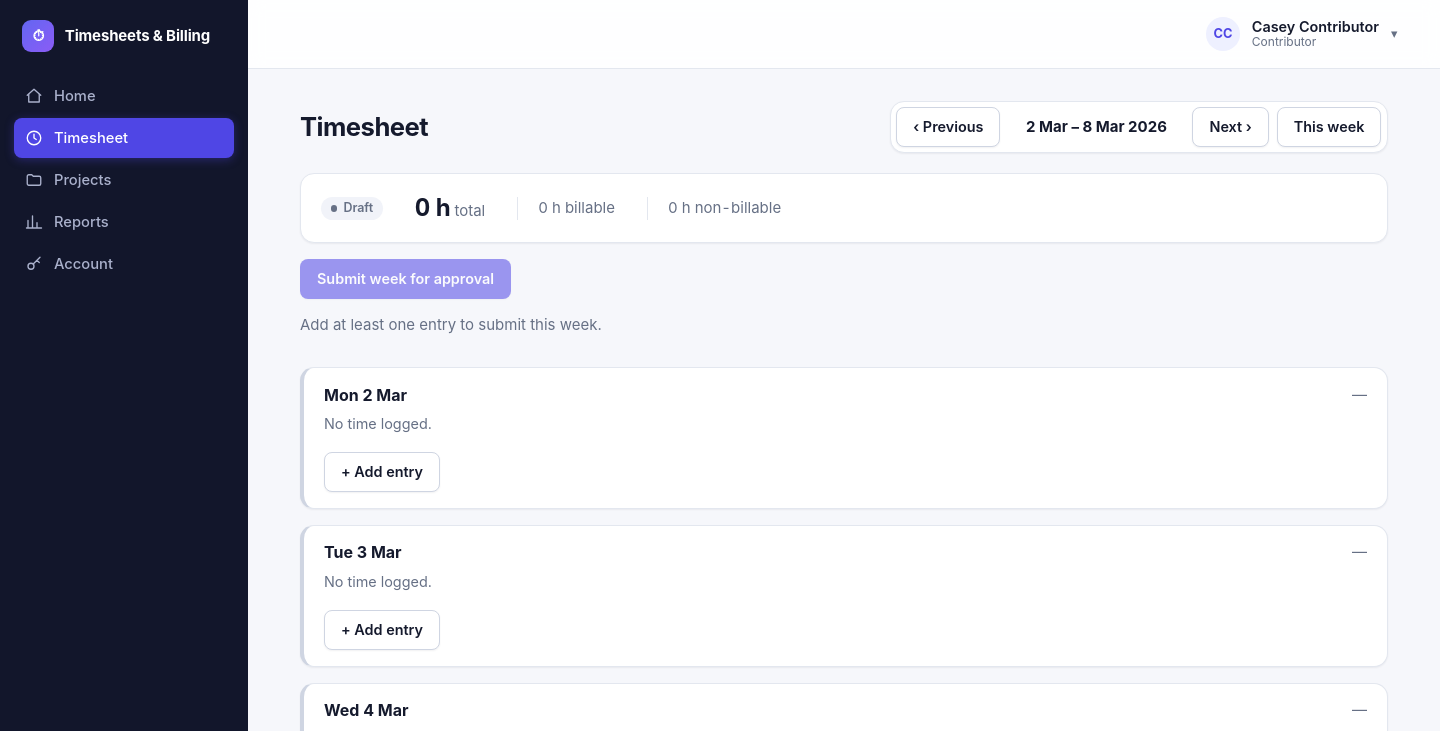
Test case: timesheet: adding entries › explains a project’s date window up front and refuses an earlier date on the client
Expected: the heading "Timesheet" is shown, [300,108,428,146]
Expected: the text "total" is shown, [450,201,485,220]
Click the button with aria-label "Add entry on Mon 2 Mar": (382,472) [324,452,440,492]
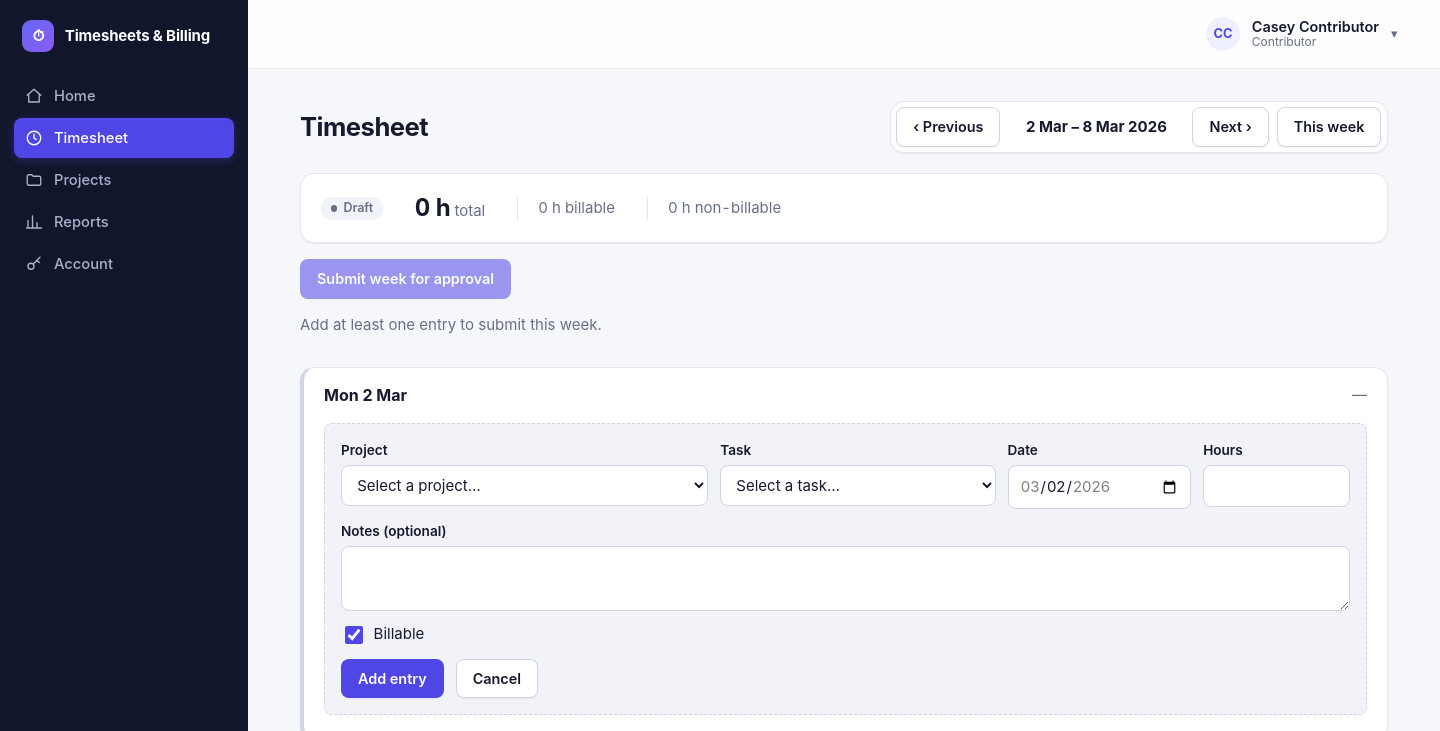
Select "LATE · Late Start" in the dropdown labelled "Project": (525,485) [341,465,708,506]
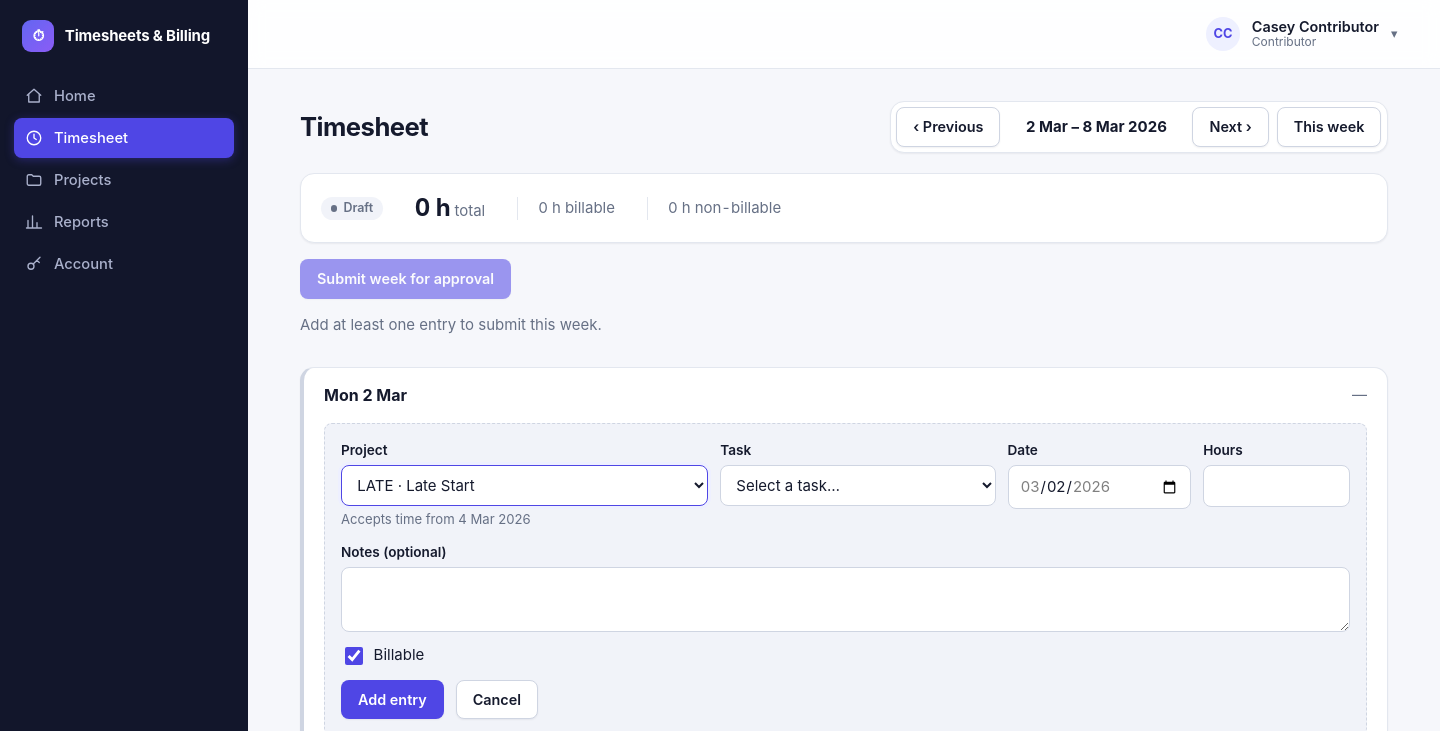
Select "Build" in the dropdown labelled "Task": (858,485) [720,465,996,506]
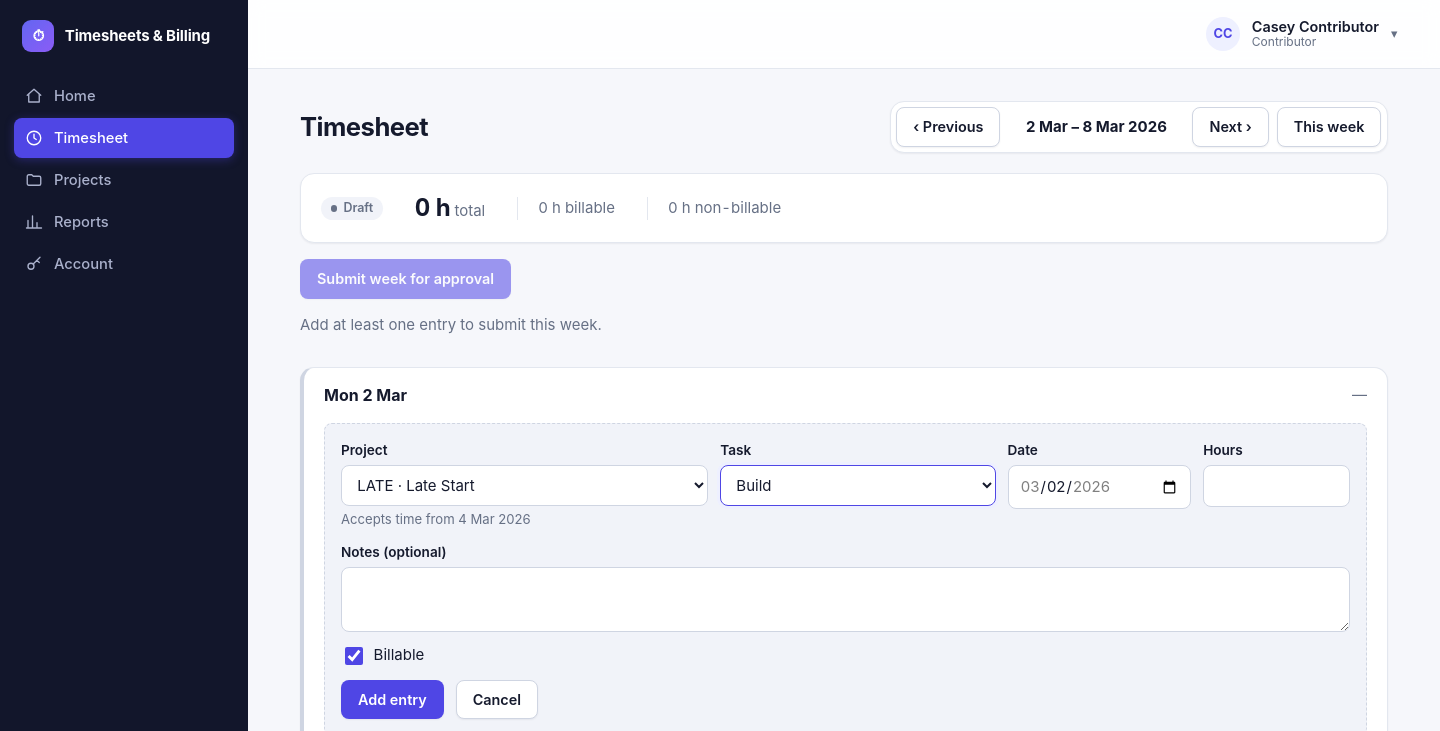
Now the date field labelled "Date" holds "2026-03-02", box [1008,465,1191,509]
In the number field labelled "Hours": (1277,486) [1203,465,1350,507], type "2"
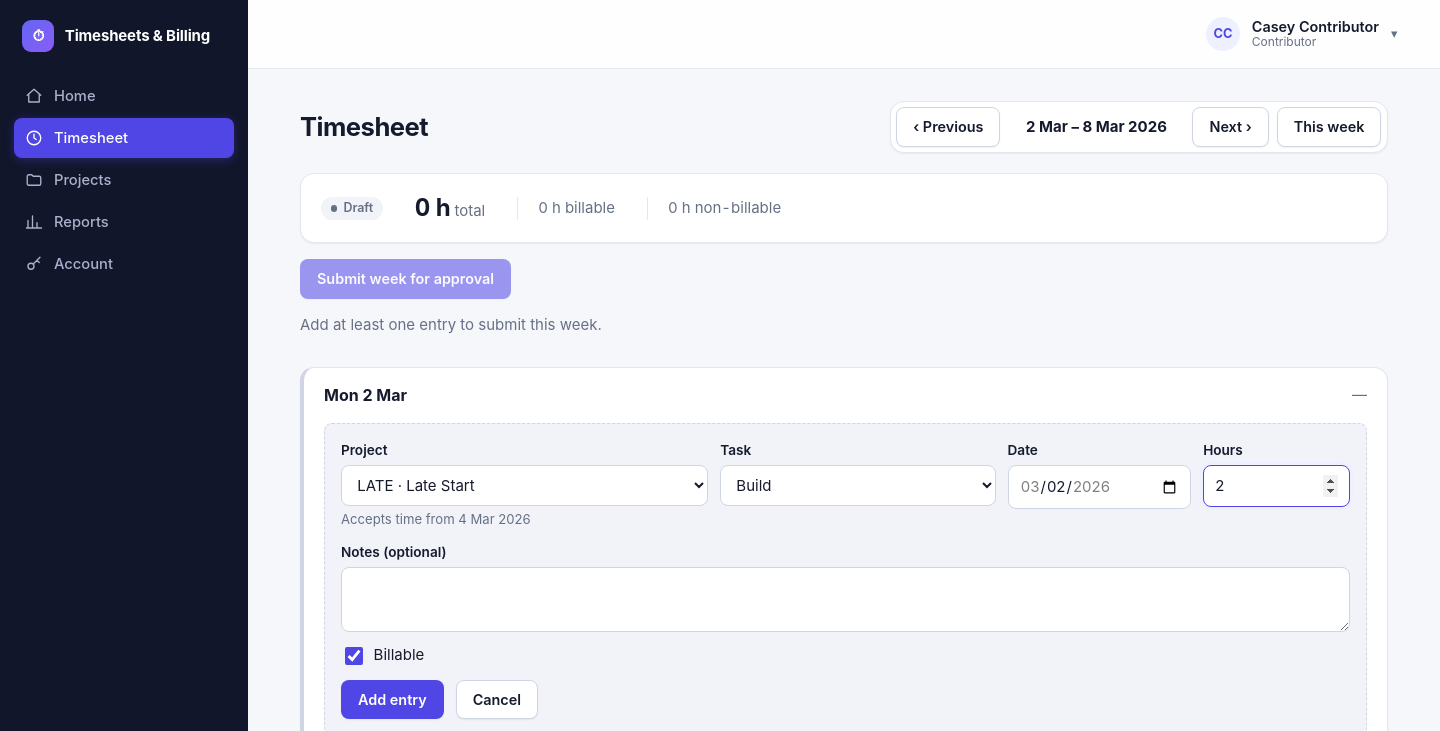
Now the text "Accepts time from 4 Mar 2026" is shown, box [341,511,531,527]
Click the button "Add entry": (392,699) [341,680,444,719]
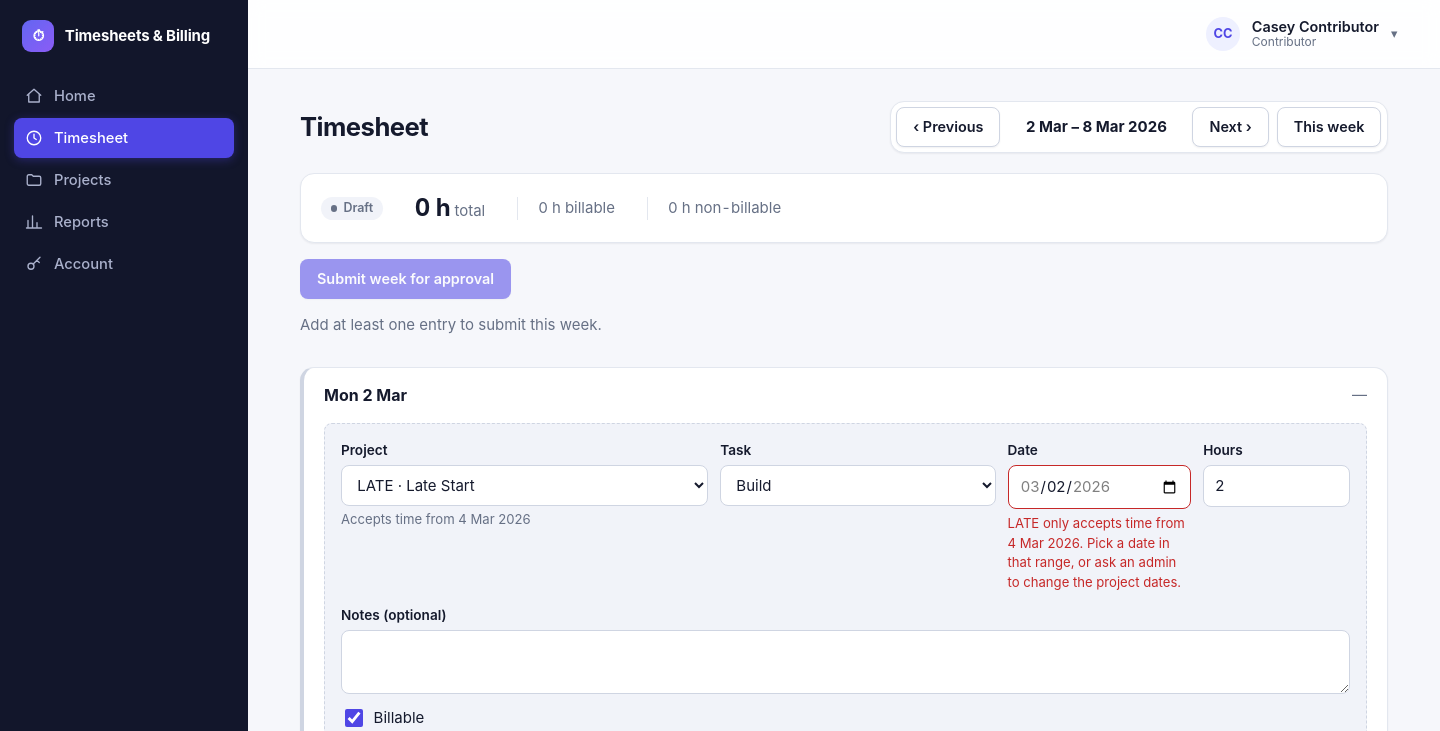
Now the text "LATE only accepts time from 4 Mar 2026" is shown, box [1008,515,1185,590]
